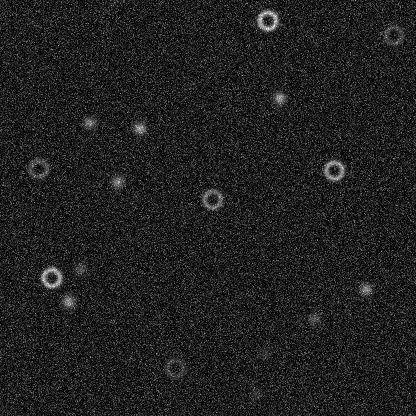Ring: (26, 156, 50, 180), (200, 187, 224, 211), (39, 265, 63, 289), (381, 23, 405, 47), (255, 8, 279, 32), (162, 356, 186, 380), (322, 158, 346, 182)
Spot: (271, 90, 287, 106), (72, 260, 88, 276), (109, 173, 125, 189), (131, 120, 147, 136), (256, 345, 272, 361), (248, 386, 264, 402), (306, 310, 322, 326), (60, 293, 76, 309), (81, 114, 97, 130), (357, 281, 373, 297)
